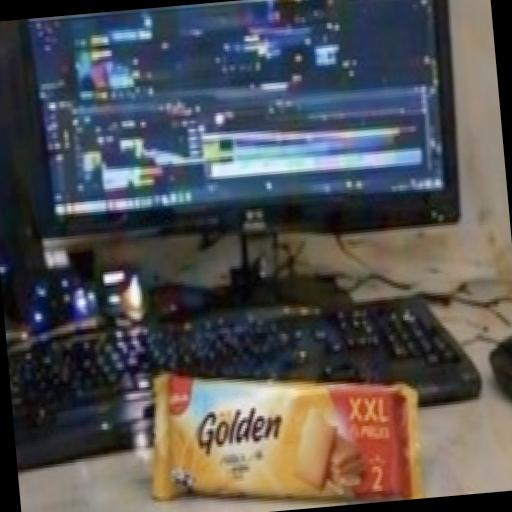golden: (106, 265, 459, 512)
